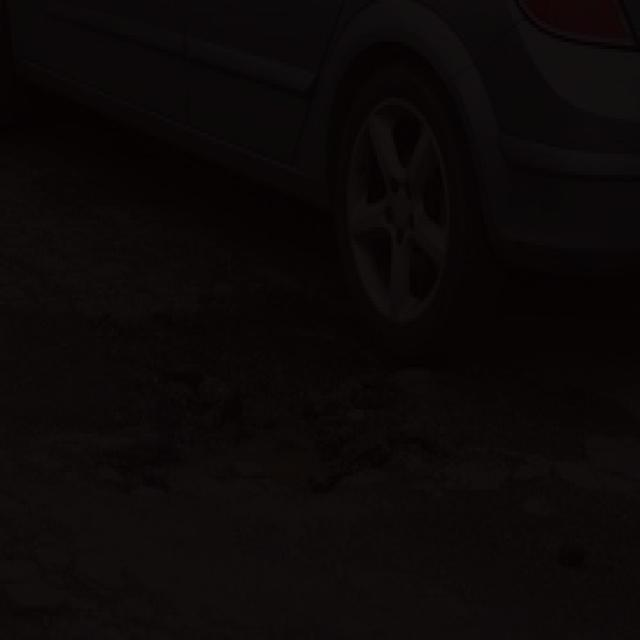Pothole: (125, 342, 416, 484)
